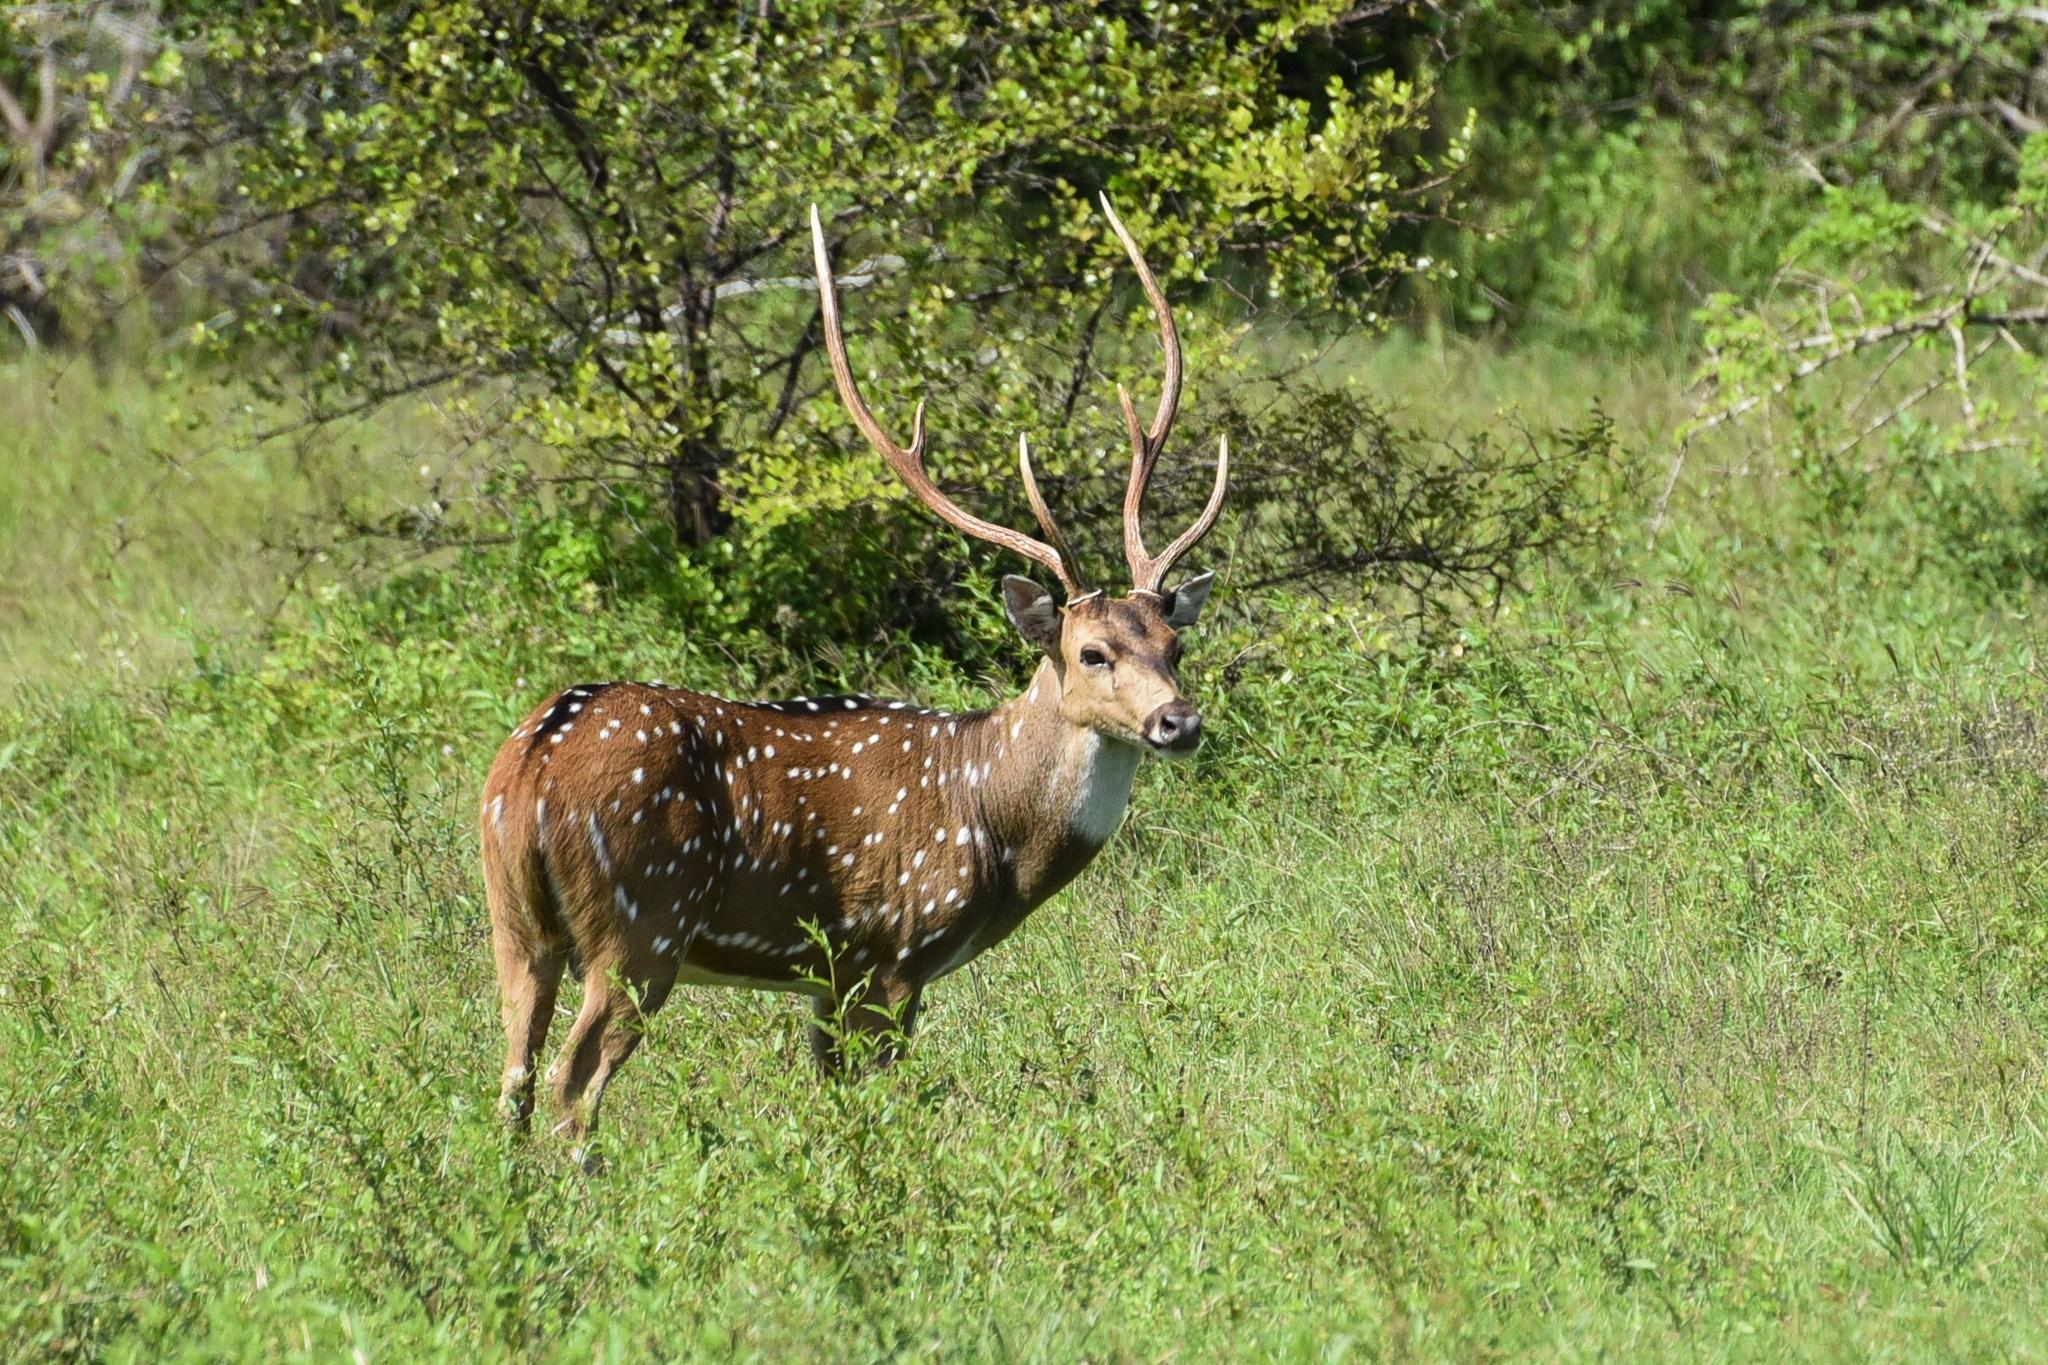Deer: (480, 200, 1227, 1140)
